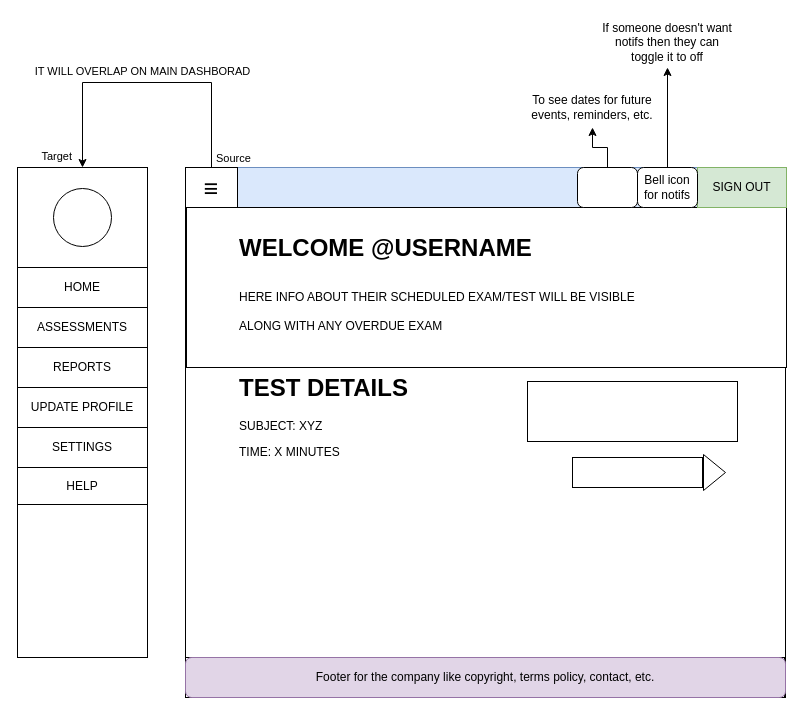
Some shapes in this 804 by 715 pixel diagram are drawn without their labels. The box of each missing label's shape, as (x1, y1, x2, y2) in pixels:
Calendar icon: (576, 166, 638, 208)
Dashboard: (184, 166, 786, 208)
Profile picture: (52, 188, 112, 246)
START TEST BUTTON: (572, 456, 702, 488)
TIMER WHICH SHOWS TIME LEFT TO START THE TEST: (526, 380, 738, 442)
